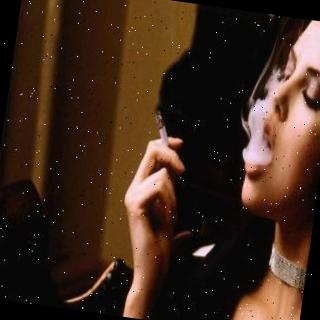smoke: (234, 79, 288, 172)
